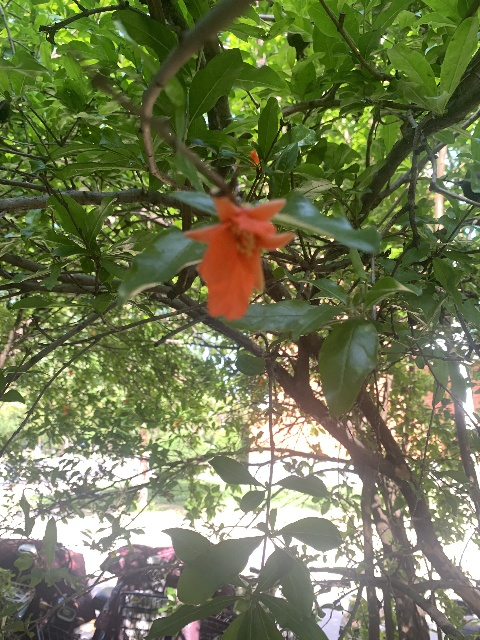flower: (182, 194, 294, 320)
